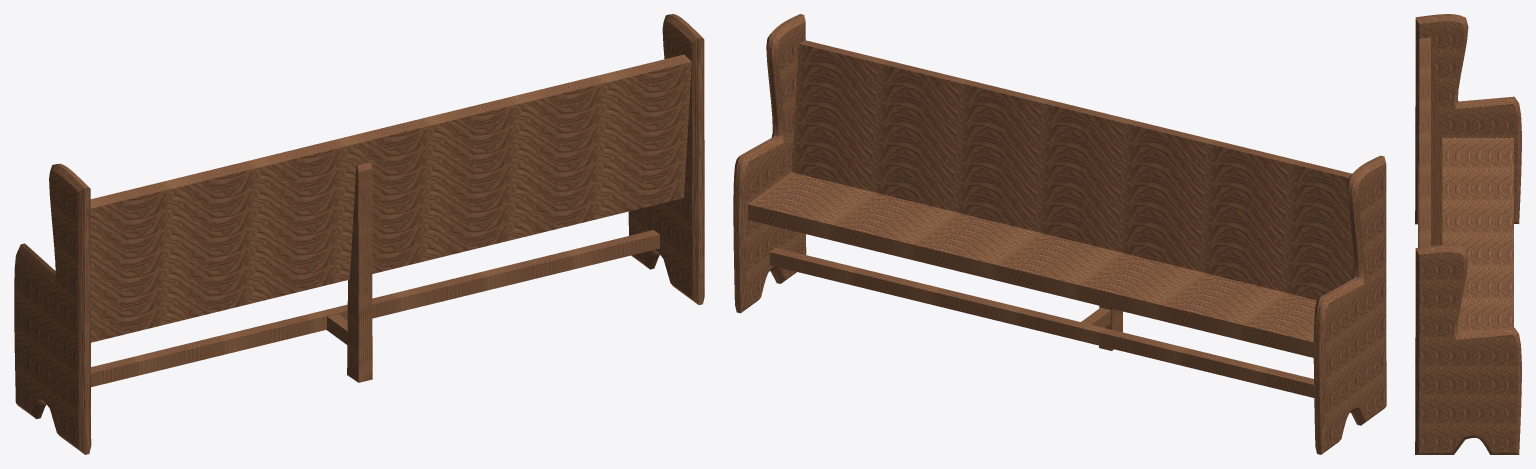
The model's file is church_bench.FBX.
3 renders of one model, left to right at view 1: azimuth 30°, elevation 25°; view 2: azimuth 150°, elevation 25°; view 3: azimuth 270°, elevation 25°, orthographic. The views are drawn at different scales.
Parts seen in each view (by area): view 1: Box06, Line05, Box07, Line04, Line06; view 2: Box06, Box05, Line05, Box07, Line04; view 3: Line04, Box05, Line05, Box06, Line06.
Part boxes in pixels (x1,y1,x2,y2): Box06: (90, 54, 691, 342); Line05: (14, 163, 91, 454); Box07: (91, 230, 659, 386); Line04: (628, 14, 704, 304); Line06: (347, 162, 372, 382); Box06: (792, 40, 1352, 300); Box05: (748, 172, 1316, 357); Line05: (1313, 155, 1386, 454); Box07: (769, 248, 1314, 397); Line04: (733, 14, 806, 313); Line04: (1415, 244, 1521, 454); Box05: (1442, 138, 1513, 332); Line05: (1415, 14, 1521, 224); Box06: (1419, 37, 1442, 247); Line06: (1418, 158, 1419, 247).
Bounding box in the file's own units: 89.19 × 36.84 × 17.08.
1 material, 1 textured.
